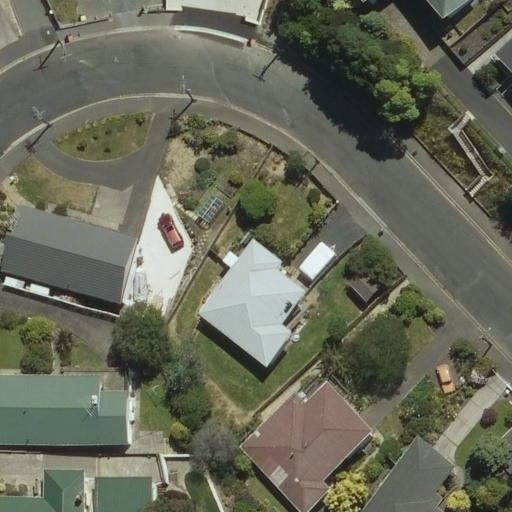DT: (173, 76, 203, 107), (27, 102, 55, 135), (298, 140, 322, 170), (474, 329, 497, 355)
